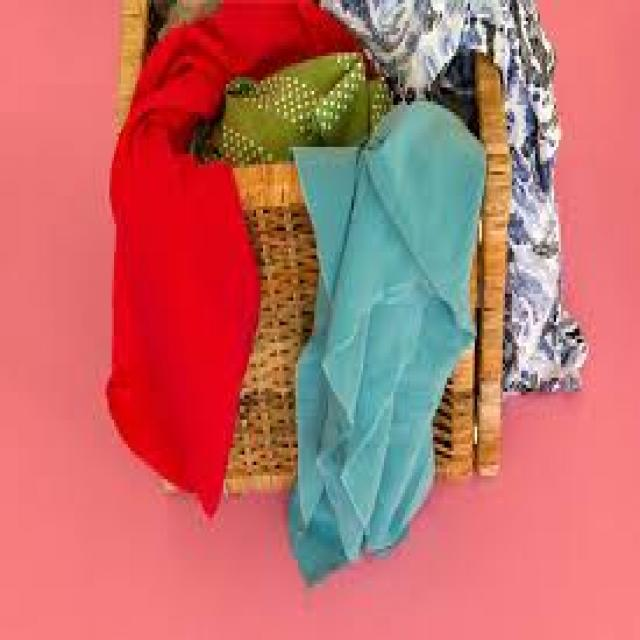Clothes -Biodegradable-: (103, 0, 580, 588)
